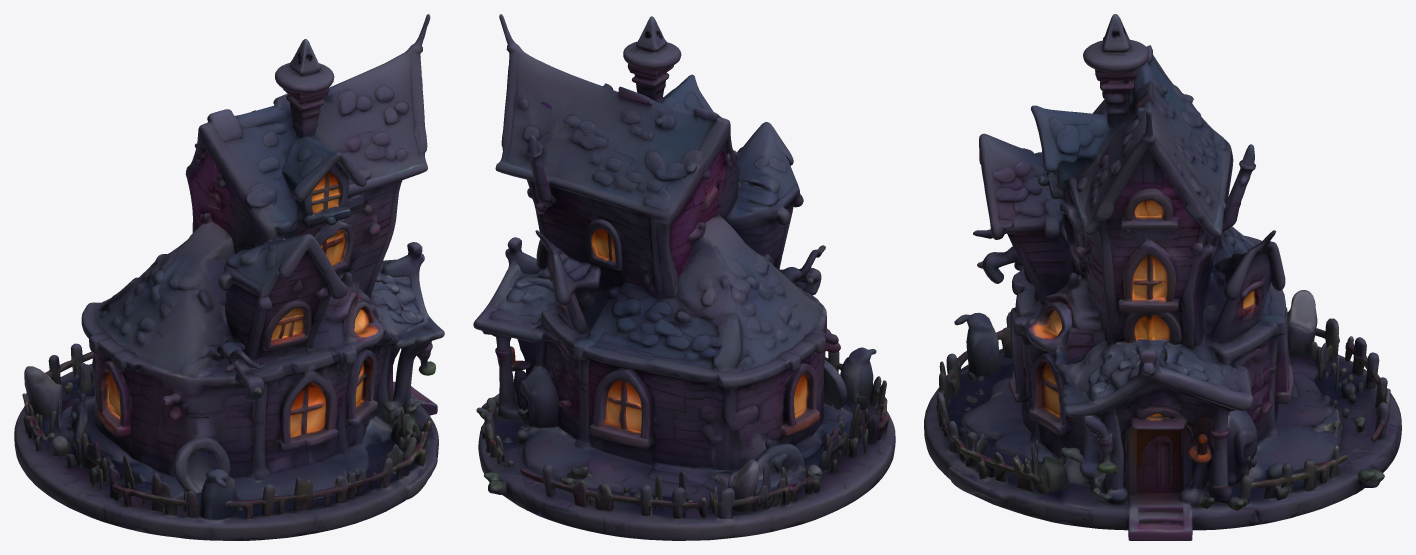
Rendered from building-haunted-house.glb.
The picture shows the model from 3 angles, left to right: view 1: azimuth 30°, elevation 25°; view 2: azimuth 150°, elevation 25°; view 3: azimuth 270°, elevation 25°; orthographic projection. The views are drawn at different scales.
Parts seen in each view (by area): view 1: tripo_node_086b8b59-c4de-40cf-8fa0-9be3036963b7; view 2: tripo_node_086b8b59-c4de-40cf-8fa0-9be3036963b7; view 3: tripo_node_086b8b59-c4de-40cf-8fa0-9be3036963b7.
Part boxes in pixels (x1,y1,x2,y2): tripo_node_086b8b59-c4de-40cf-8fa0-9be3036963b7: (14,14,444,540); tripo_node_086b8b59-c4de-40cf-8fa0-9be3036963b7: (473,14,895,540); tripo_node_086b8b59-c4de-40cf-8fa0-9be3036963b7: (924,14,1401,540).
Size of the model in its own units: 8.58 by 9 by 8.54.
1 material, 1 textured.
